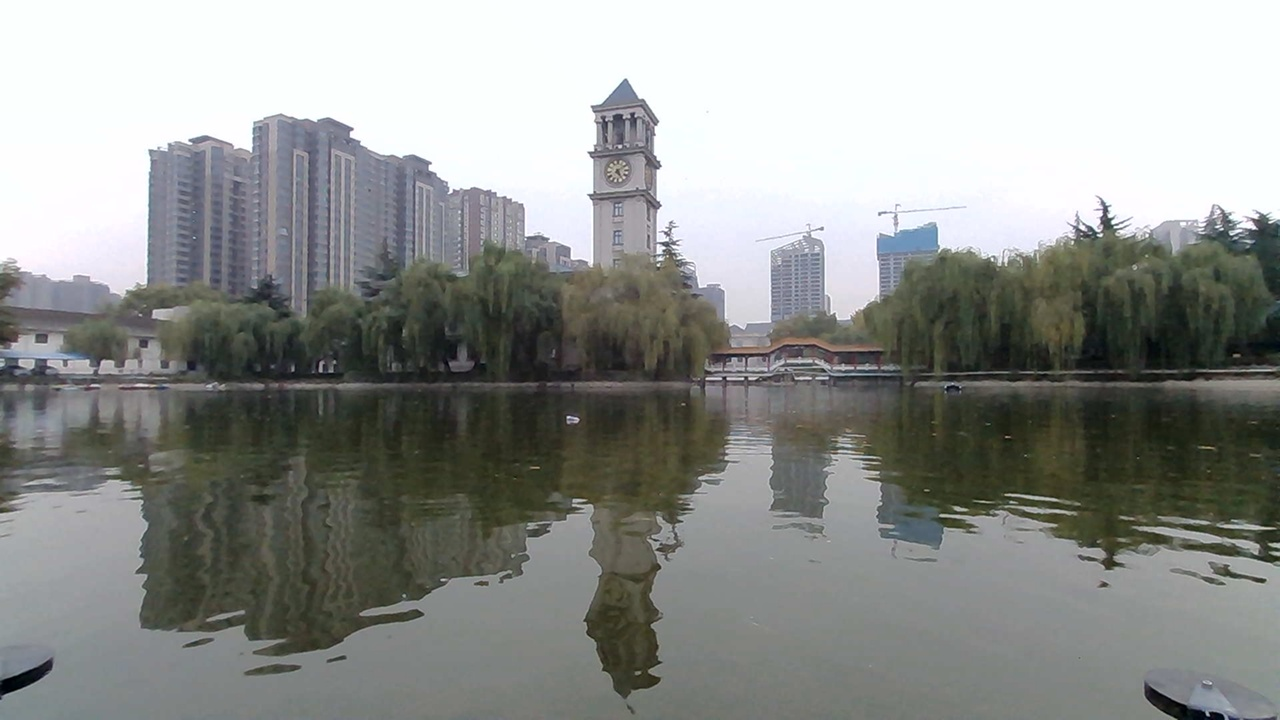bottle: (557, 403, 590, 428)
